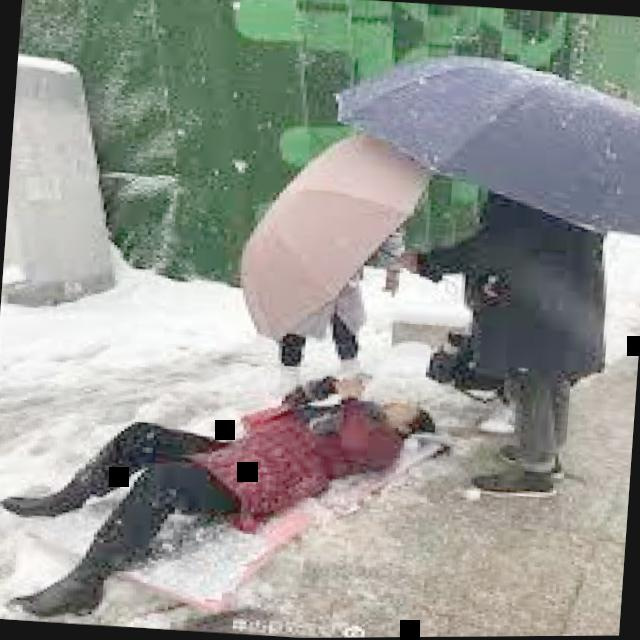Fall-Detected: (0, 333, 449, 640)
